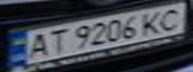0: (106, 16, 127, 43)
2: (90, 19, 112, 47)
6: (121, 14, 145, 40)
9: (69, 22, 93, 51)
A: (21, 30, 54, 61)
C: (154, 6, 190, 33)
K: (136, 9, 169, 36)
T: (42, 27, 72, 55)
